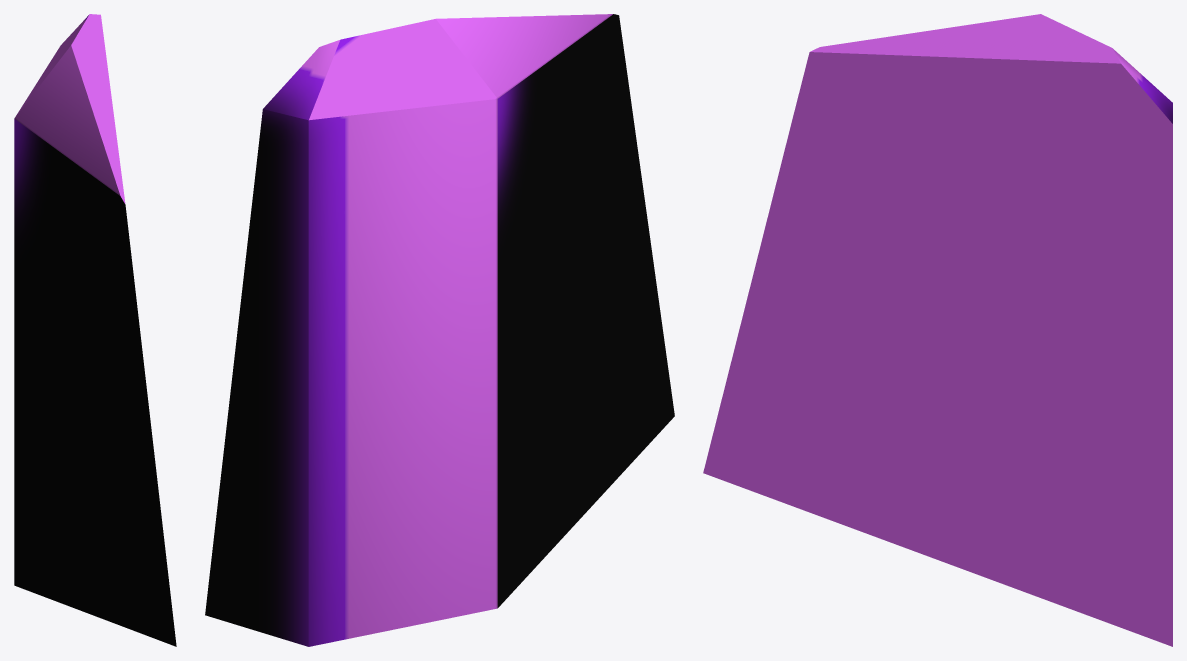
Rendered from blockParticle_8.gltf.
The picture shows the model from 3 angles, left to right: view 1: azimuth 30°, elevation 25°; view 2: azimuth 150°, elevation 25°; view 3: azimuth 270°, elevation 25°; orthographic projection. The views are drawn at different scales.
Visible parts, largest first — view 1: 立方体_cell.009; view 2: 立方体_cell.009; view 3: 立方体_cell.009.
Boxes of the visible parts, x1,y1,x2,y2 form: 立方体_cell.009: [14, 14, 176, 646]; 立方体_cell.009: [205, 14, 674, 646]; 立方体_cell.009: [703, 14, 1172, 646].
Size of the model in its own units: 0.3955 by 1 by 0.755.
Materials: 2 (2 with a texture image).
